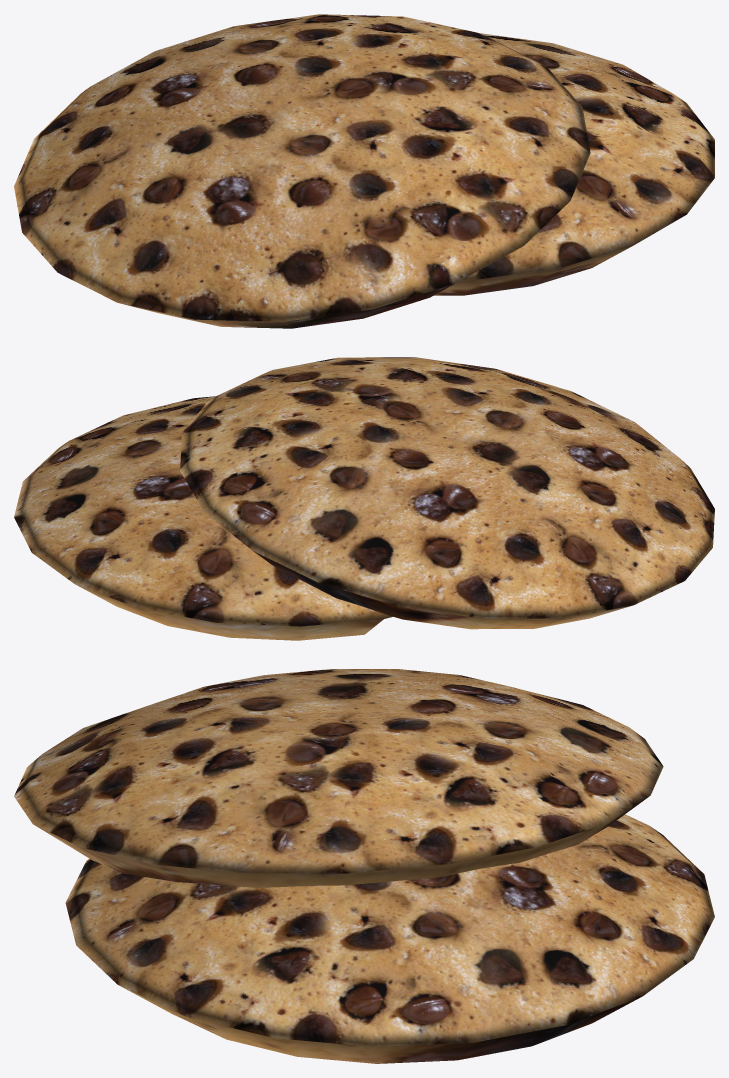
File: Coockies.fbx
3 renders of one model, top to bottom at view 1: azimuth 30°, elevation 25°; view 2: azimuth 150°, elevation 25°; view 3: azimuth 270°, elevation 25°, orthographic. The views are drawn at different scales.
Parts seen in each view (by area): view 1: Coockies; view 2: Coockies; view 3: Coockies.
Part boxes in pixels (x1=…): Coockies: x1=14, y1=14, x2=714, y2=328; Coockies: x1=14, y1=357, x2=714, y2=640; Coockies: x1=14, y1=669, x2=714, y2=1063.
Size of the model in its own units: 4.96 by 1.15 by 4.15.
Materials: 1 (1 with a texture image).
